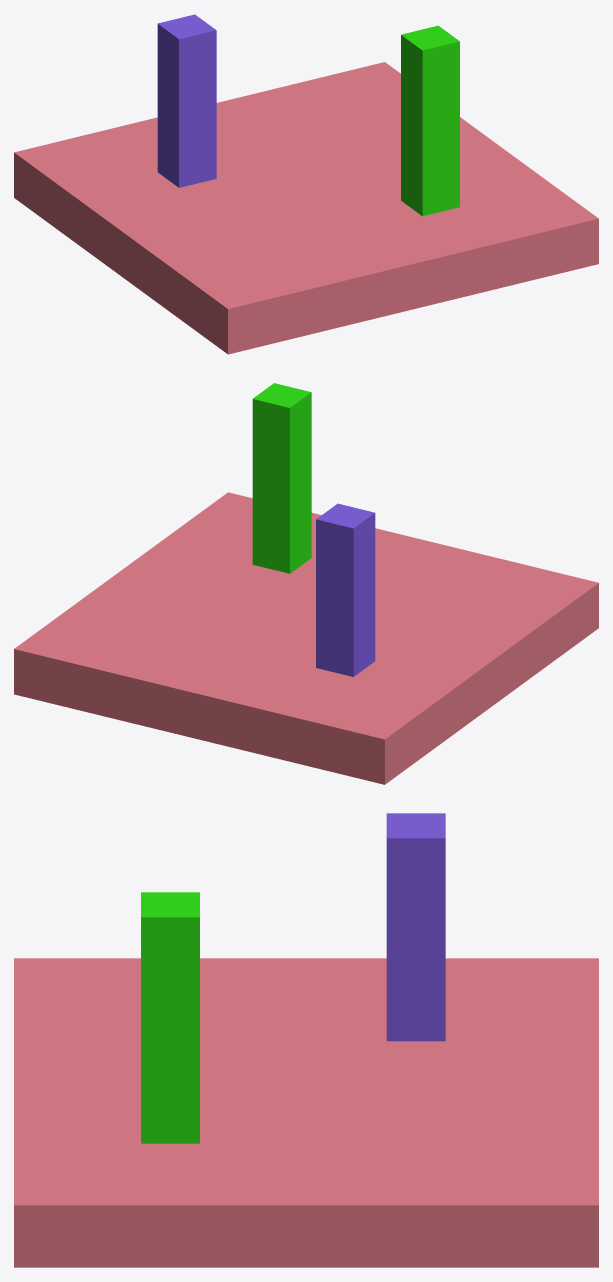
The model's file is TestBlock.fbx.
3 views of the same model, one above another, from view 1: azimuth 30°, elevation 25°; view 2: azimuth 150°, elevation 25°; view 3: azimuth 270°, elevation 25° (orthographic). The views are drawn at different scales.
Visible parts, largest first — view 1: Cube, Cube.001, Cube.002; view 2: Cube, Cube.001, Cube.002; view 3: Cube, Cube.001, Cube.002.
Boxes of the visible parts, x1,y1,x2,y2 form: Cube: [14, 62, 598, 354]; Cube.001: [401, 25, 459, 216]; Cube.002: [157, 14, 216, 187]; Cube: [14, 492, 598, 784]; Cube.001: [252, 383, 311, 573]; Cube.002: [316, 503, 375, 676]; Cube: [14, 958, 598, 1267]; Cube.001: [141, 892, 199, 1143]; Cube.002: [386, 813, 445, 1041].
Size of the model in its own units: 1014 by 552 by 1014.
